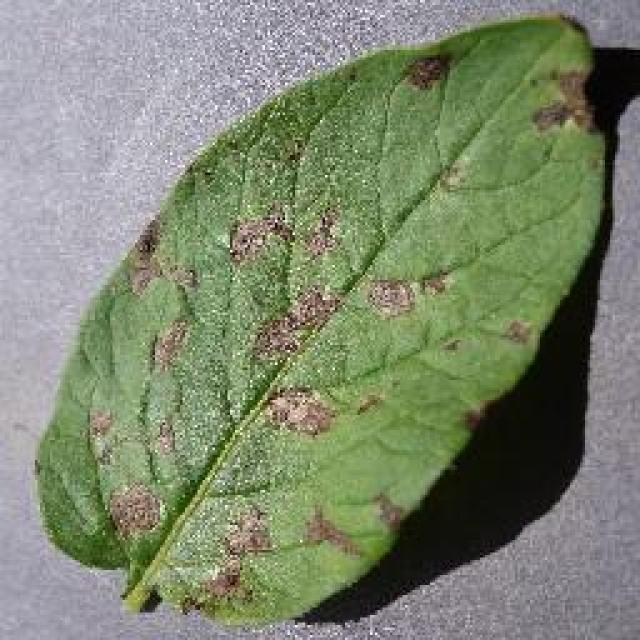early_blight: (30, 10, 612, 630)
